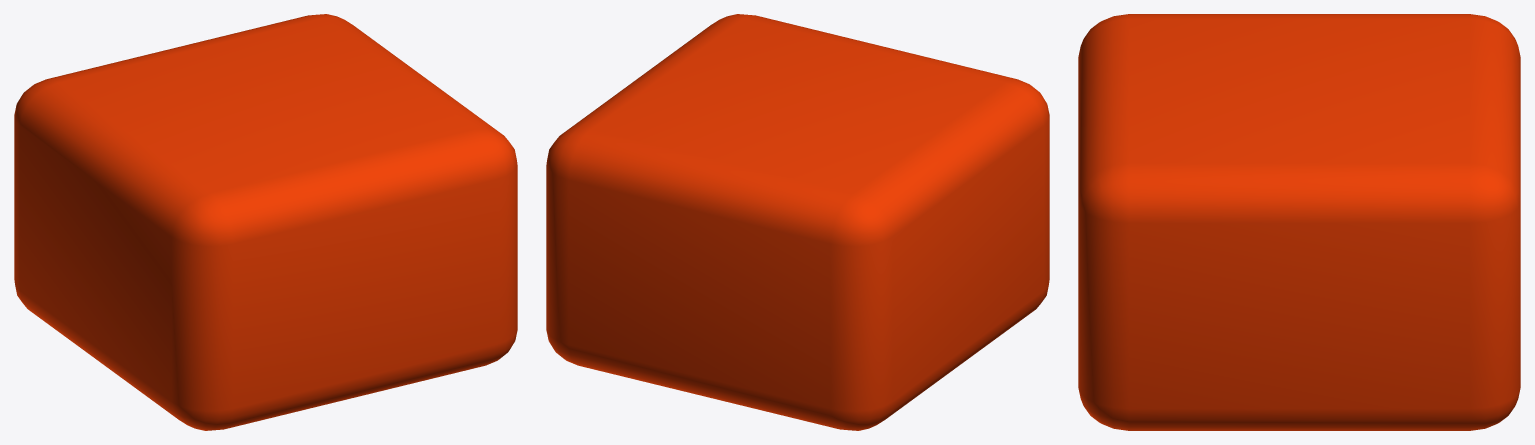
Rendered from guzikMgora.fbx.
3 views of the same model, side by side, from view 1: azimuth 30°, elevation 25°; view 2: azimuth 150°, elevation 25°; view 3: azimuth 270°, elevation 25° (orthographic). The views are drawn at different scales.
Parts seen in each view (by area): view 1: Cube.020; view 2: Cube.020; view 3: Cube.020.
Boxes of the visible parts, x1=… form: Cube.020: x1=14, y1=14, x2=517, y2=430; Cube.020: x1=546, y1=14, x2=1049, y2=430; Cube.020: x1=1078, y1=14, x2=1520, y2=430.
Size of the model in its own units: 32.72 by 21.41 by 32.72.
